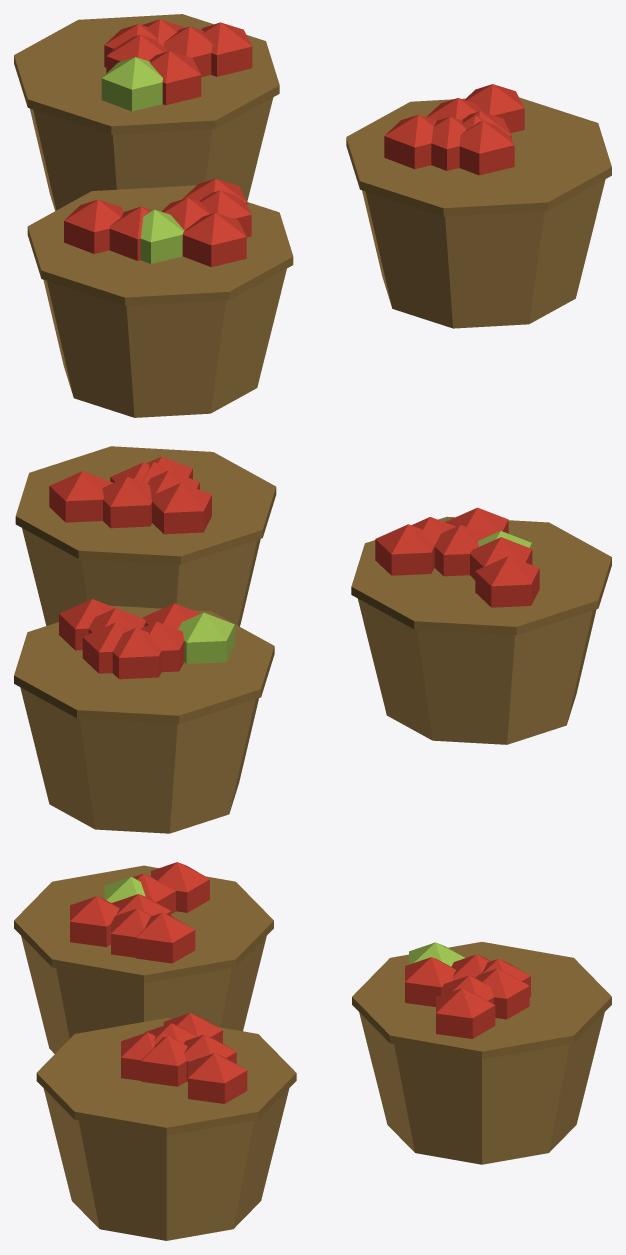
Rendered from pile_fruit_1.glb.
3 views of the same model, one above another, from view 1: azimuth 30°, elevation 25°; view 2: azimuth 150°, elevation 25°; view 3: azimuth 270°, elevation 25° (orthographic). The views are drawn at different scales.
Parts seen in each view (by area): view 1: pile_fruit_1; view 2: pile_fruit_1; view 3: pile_fruit_1.
Part boxes in pixels (box(x1,y1,x2,y2)): pile_fruit_1: box(14, 14, 611, 417); pile_fruit_1: box(14, 446, 611, 833); pile_fruit_1: box(14, 862, 611, 1240).
Bounding box in the file's own units: 1.38 × 0.406 × 1.33.
